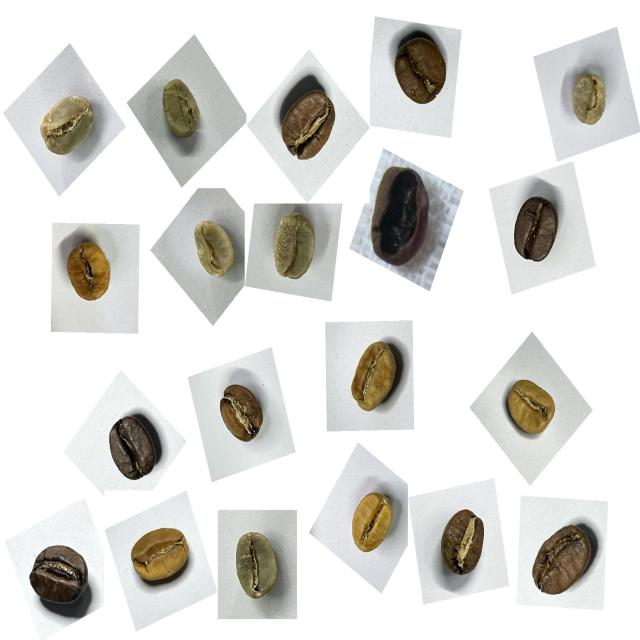bad: (358, 156, 444, 276)
dark: (22, 532, 99, 624), (98, 399, 172, 490)
green: (218, 520, 292, 614), (29, 86, 105, 174), (337, 482, 411, 569), (258, 207, 326, 295), (148, 70, 214, 153), (180, 211, 247, 291), (556, 61, 620, 142)
light: (116, 516, 200, 604), (338, 326, 410, 422), (498, 364, 572, 453), (51, 230, 123, 316)
medium: (520, 509, 608, 614), (272, 77, 350, 172), (498, 187, 572, 276), (384, 30, 456, 119), (427, 499, 499, 584), (208, 374, 274, 454)
